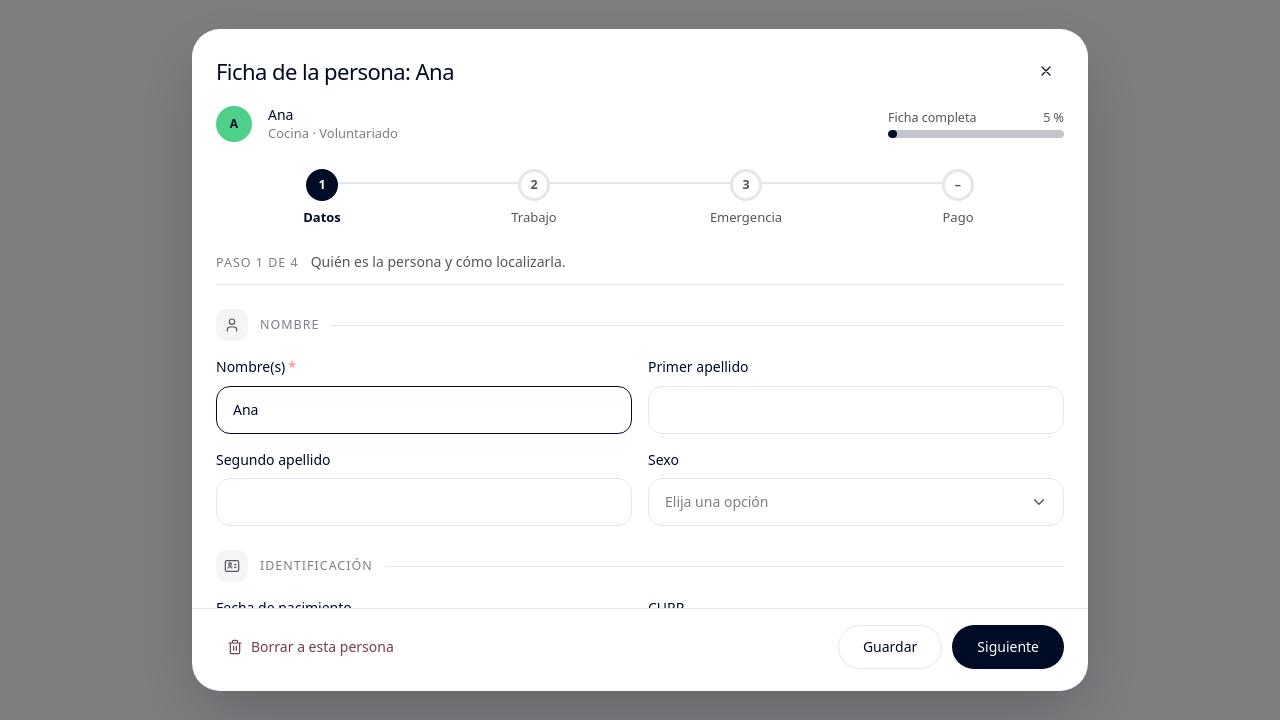
Test: the record of a person in steps › a volunteer has no pay step
Click the button "Siguiente": (1008, 647) [952,625,1064,669]
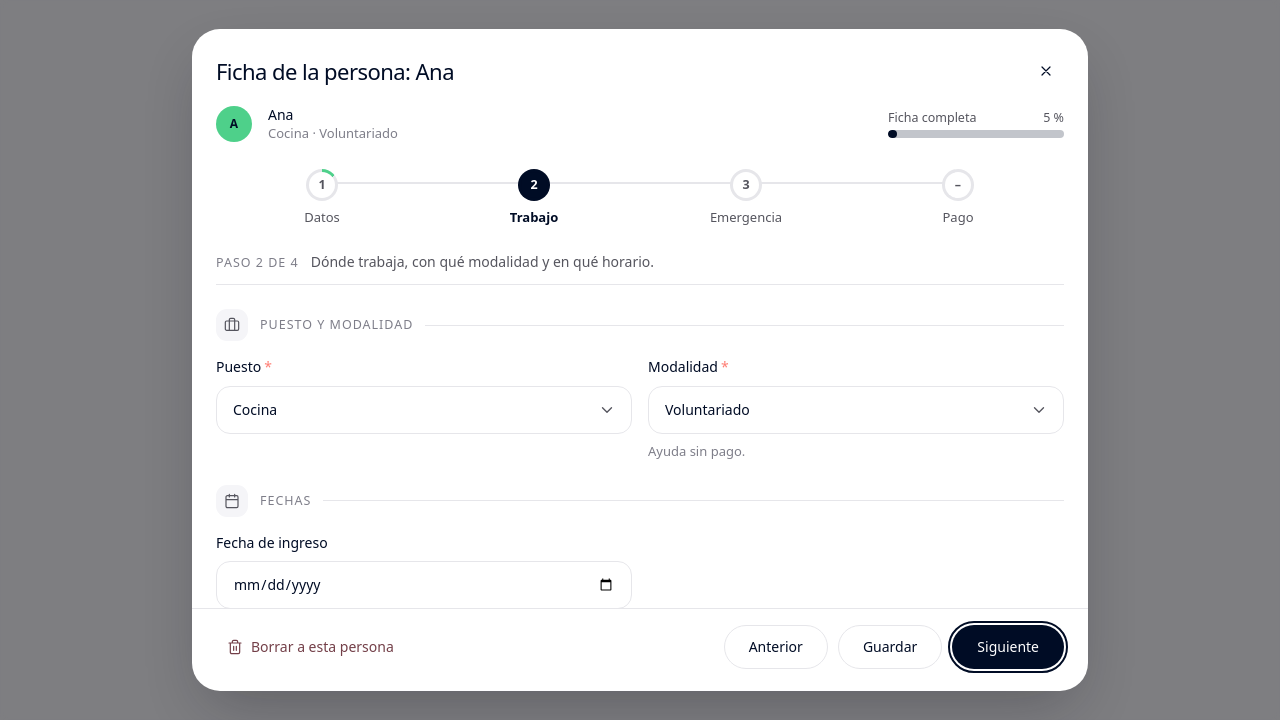
Click the button "Siguiente": (1008, 647) [952,625,1064,669]
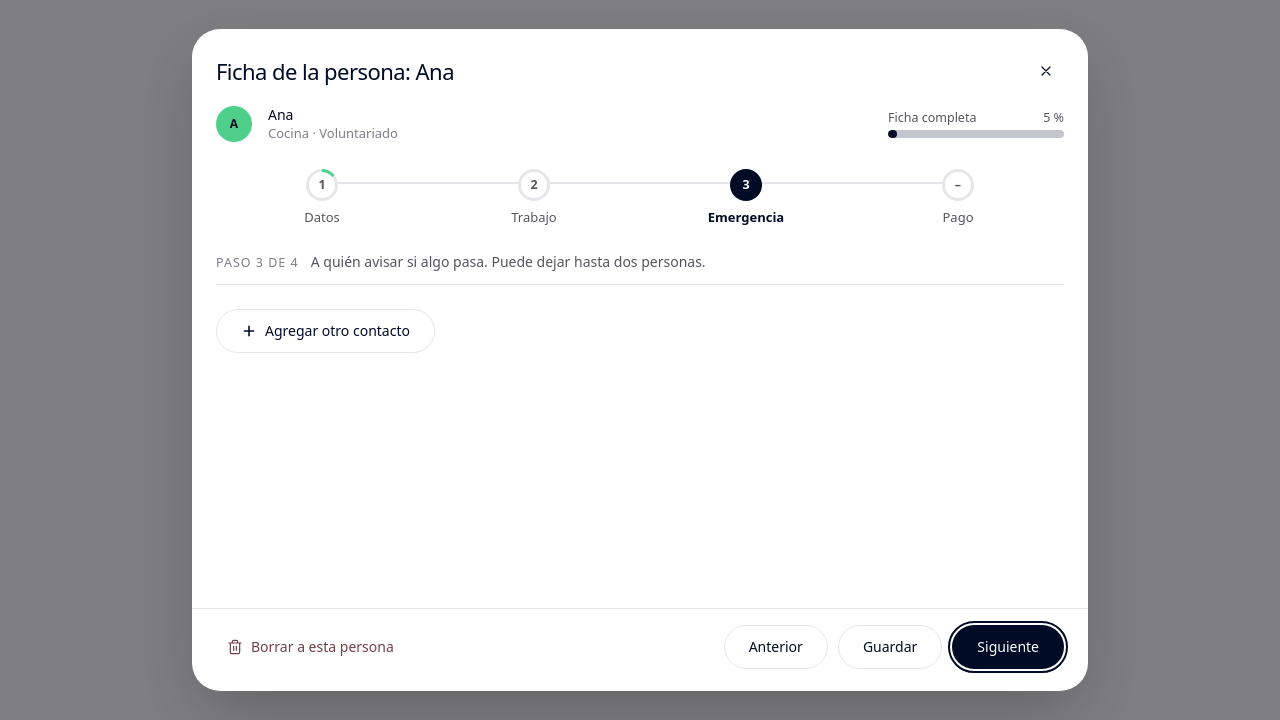
Click the button "Siguiente": (1008, 647) [952,625,1064,669]
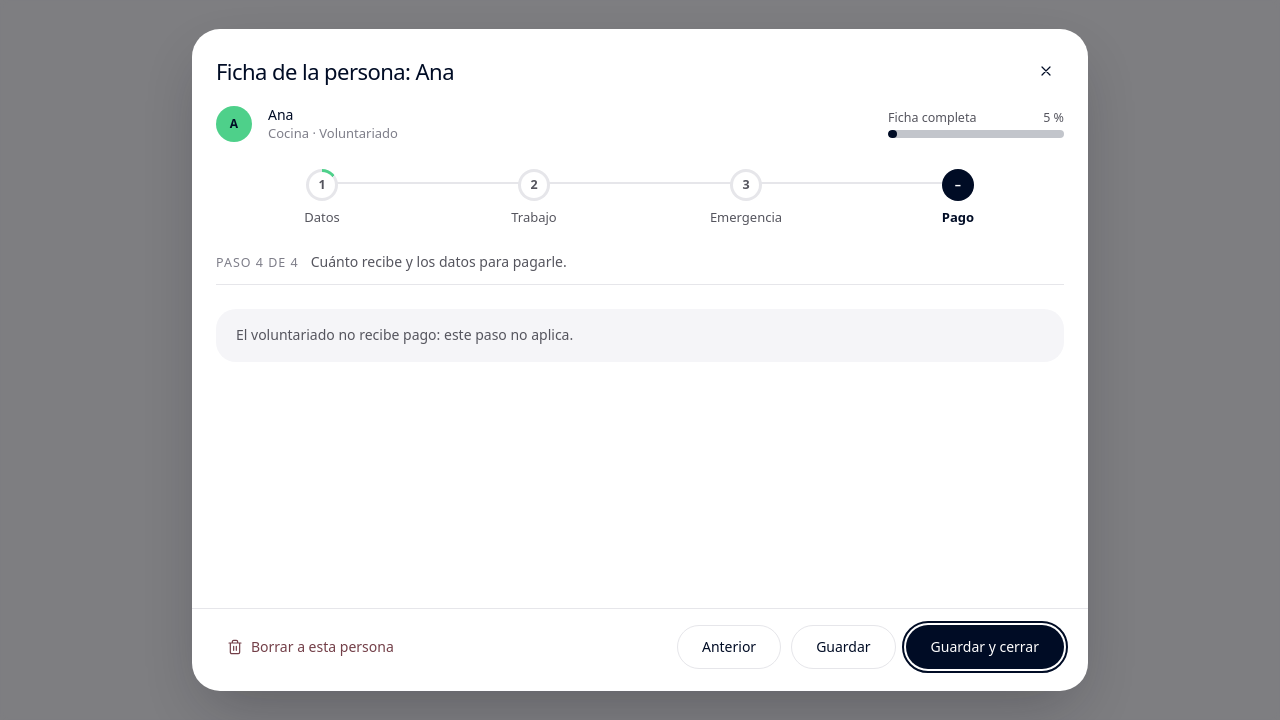
expect the text "El voluntariado no recibe pago: este paso no aplica." is shown: met, box [216,310,1064,362]
